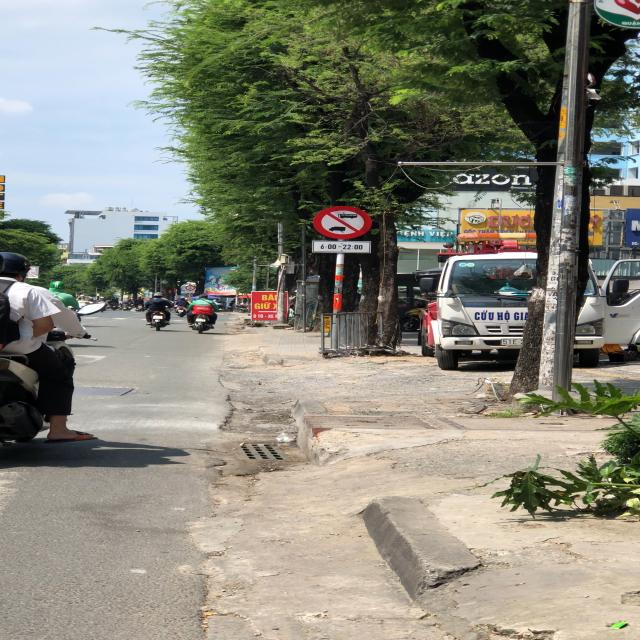Bien bao cam xe oto khach va xe oto tai: (305, 200, 379, 238)
